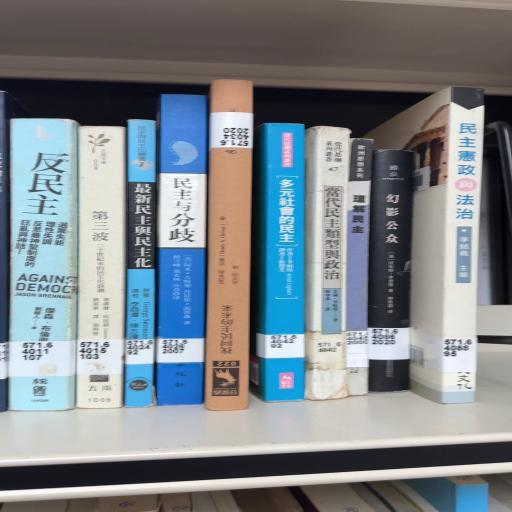reverse: (205, 80, 254, 412)
